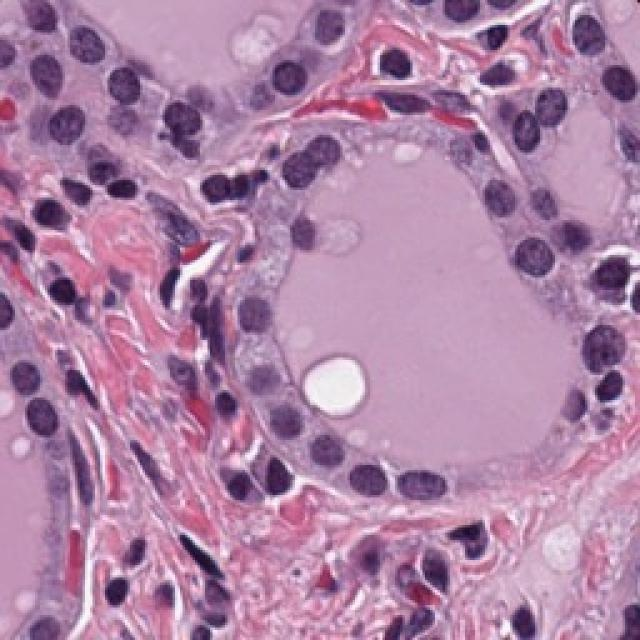normal: (259, 112, 344, 195), (90, 35, 174, 113), (243, 39, 322, 121), (386, 441, 462, 523), (143, 78, 212, 152), (219, 347, 291, 409), (503, 232, 564, 304), (345, 438, 402, 514), (568, 312, 633, 377), (471, 160, 537, 220), (60, 8, 120, 70), (45, 87, 96, 158), (261, 385, 312, 455), (230, 273, 280, 344), (520, 76, 576, 138), (297, 423, 352, 479), (488, 118, 544, 166)
